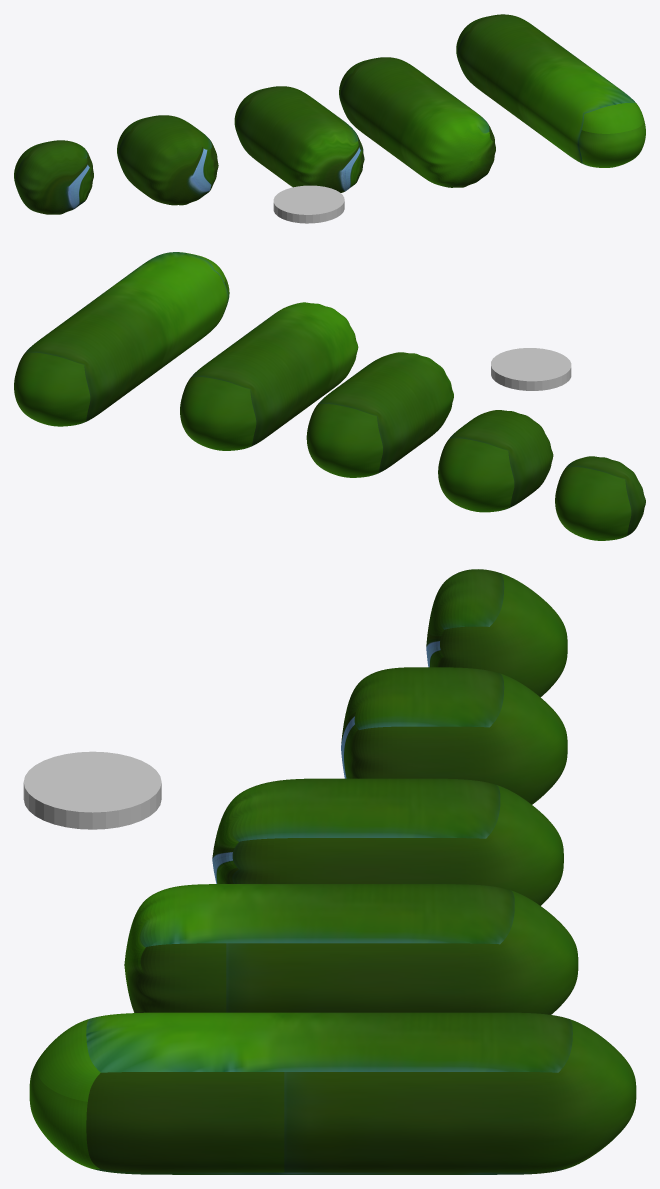
The model's file is Cucumber.fbx.
3 renders of one model, top to bottom at view 1: azimuth 30°, elevation 25°; view 2: azimuth 150°, elevation 25°; view 3: azimuth 270°, elevation 25°, orthographic. The views are drawn at different scales.
Parts seen in each view (by area): view 1: Cube, Cube.001, Cube.002, Cube.003, Cube.004, Cylinder; view 2: Cube, Cube.001, Cube.002, Cube.003, Cube.004, Cylinder; view 3: Cube, Cube.001, Cube.002, Cube.003, Cube.004, Cylinder.
Boxes of the visible parts, box(x1,y1,x2,y2) form: Cube: box(456, 14, 645, 167); Cube.001: box(339, 57, 495, 187); Cube.002: box(234, 86, 364, 192); Cube.003: box(117, 115, 218, 205); Cube.004: box(14, 140, 93, 214); Cylinder: box(273, 185, 344, 223); Cube: box(14, 252, 229, 426); Cube.001: box(180, 302, 358, 450); Cube.002: box(306, 352, 453, 477); Cube.003: box(438, 410, 553, 512); Cube.004: box(555, 456, 645, 540); Cylinder: box(491, 348, 571, 390); Cube: box(29, 1012, 636, 1174); Cube.001: box(124, 884, 578, 1014); Cube.002: box(212, 778, 563, 905); Cube.003: box(341, 667, 567, 804); Cube.004: box(426, 569, 567, 697); Cylinder: box(23, 751, 161, 829).
Bounding box in the file's own units: 1019 × 131 × 509.
